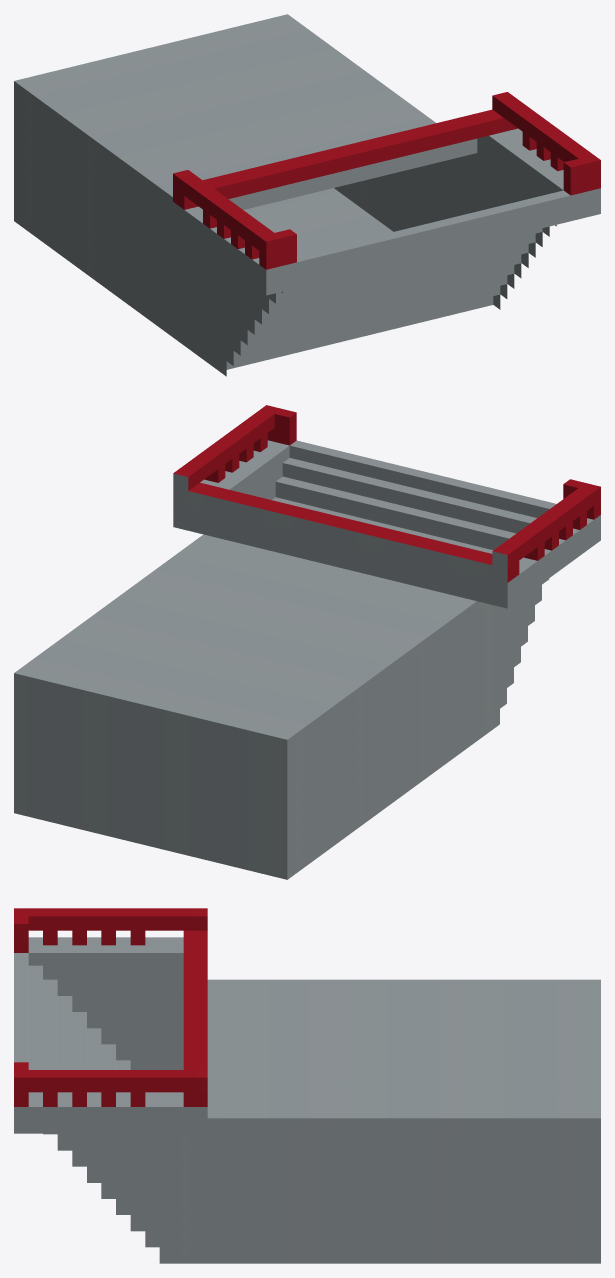
Rendered from metro.fbx.
The picture shows the model from 3 angles, top to bottom: view 1: azimuth 30°, elevation 25°; view 2: azimuth 150°, elevation 25°; view 3: azimuth 270°, elevation 25°; orthographic projection. The views are drawn at different scales.
Parts seen in each view (by area): view 1: Plane; view 2: Plane; view 3: Plane.
Part boxes in pixels (box(x1,y1,x2,y2)): Plane: box(14, 14, 600, 376); Plane: box(14, 405, 600, 879); Plane: box(14, 908, 600, 1263).
Size of the model in its own units: 500 by 277 by 732.
